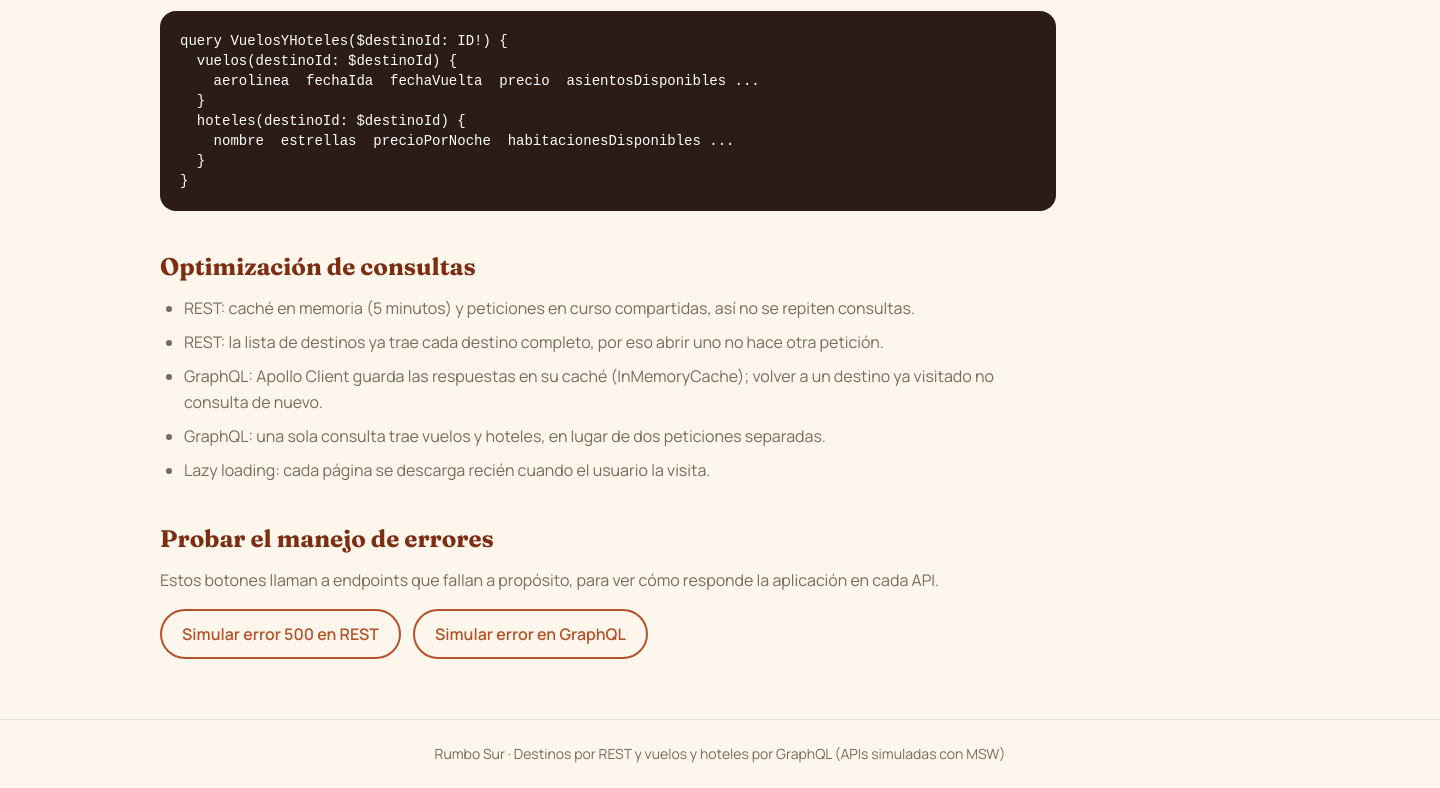
Test: Página Cómo funciona › el botón de error REST muestra el error 500 y permite reintentar
Later steps or results of the test are not shown.
(page scrolled)
Click the button "Simular error 500 en REST". click: x=280, y=634
box: [160, 609, 401, 659]
(page scrolled)
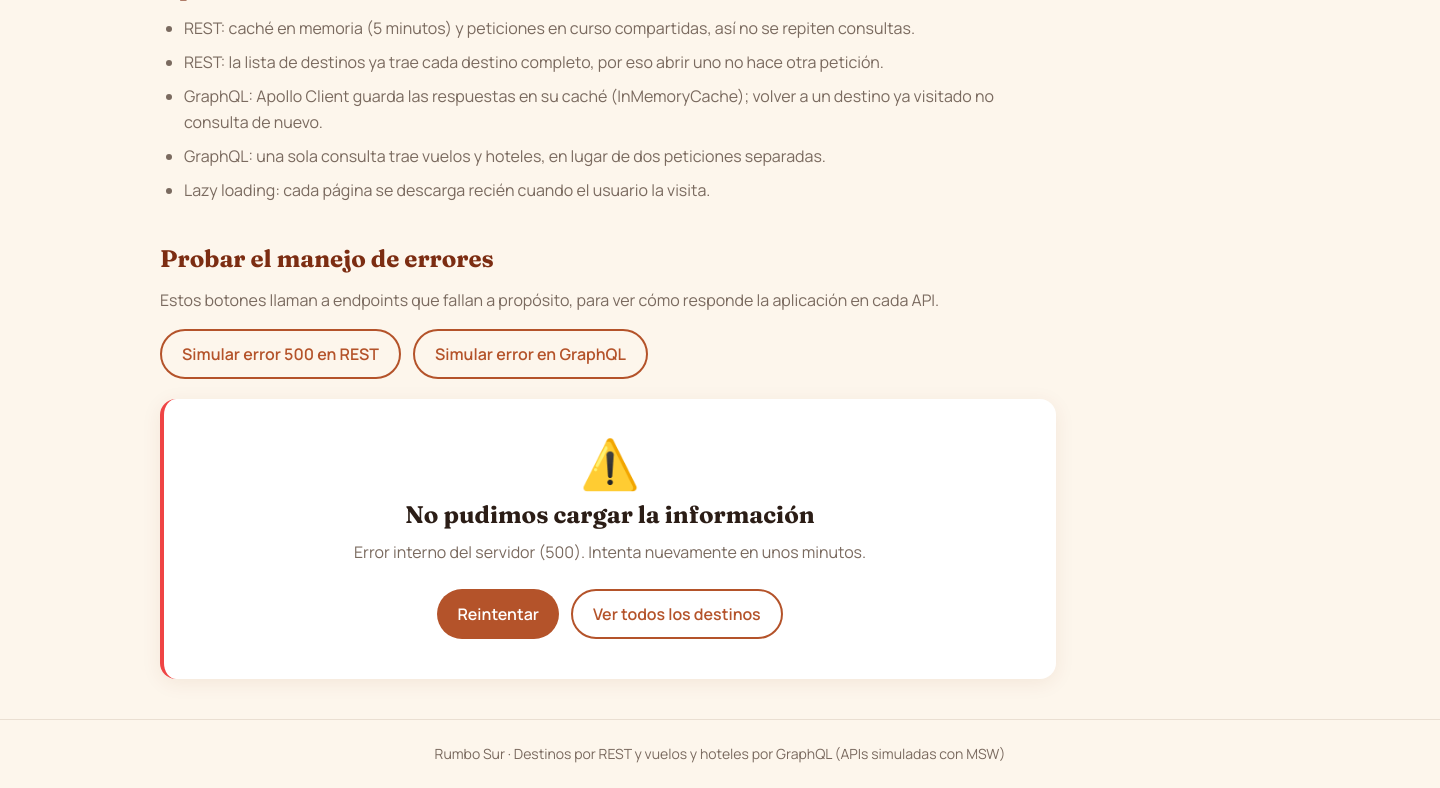
Expected: the message shows "Error interno del servidor (500)", [354, 541, 866, 563]
